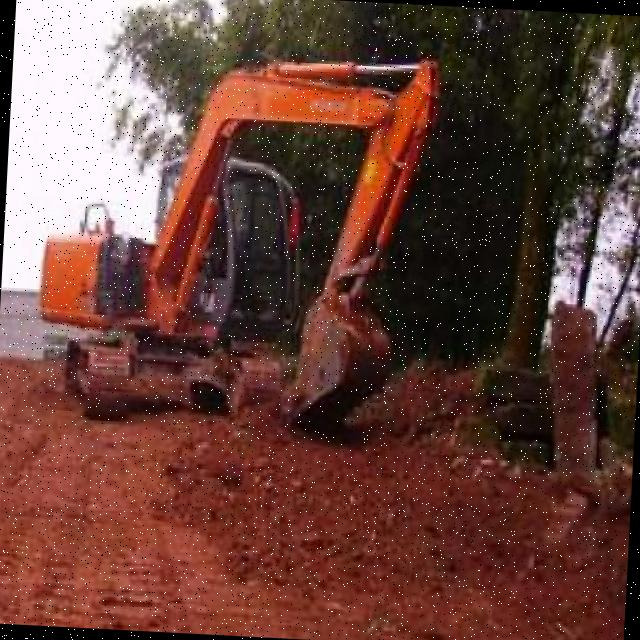Excavator: (26, 36, 437, 450)
